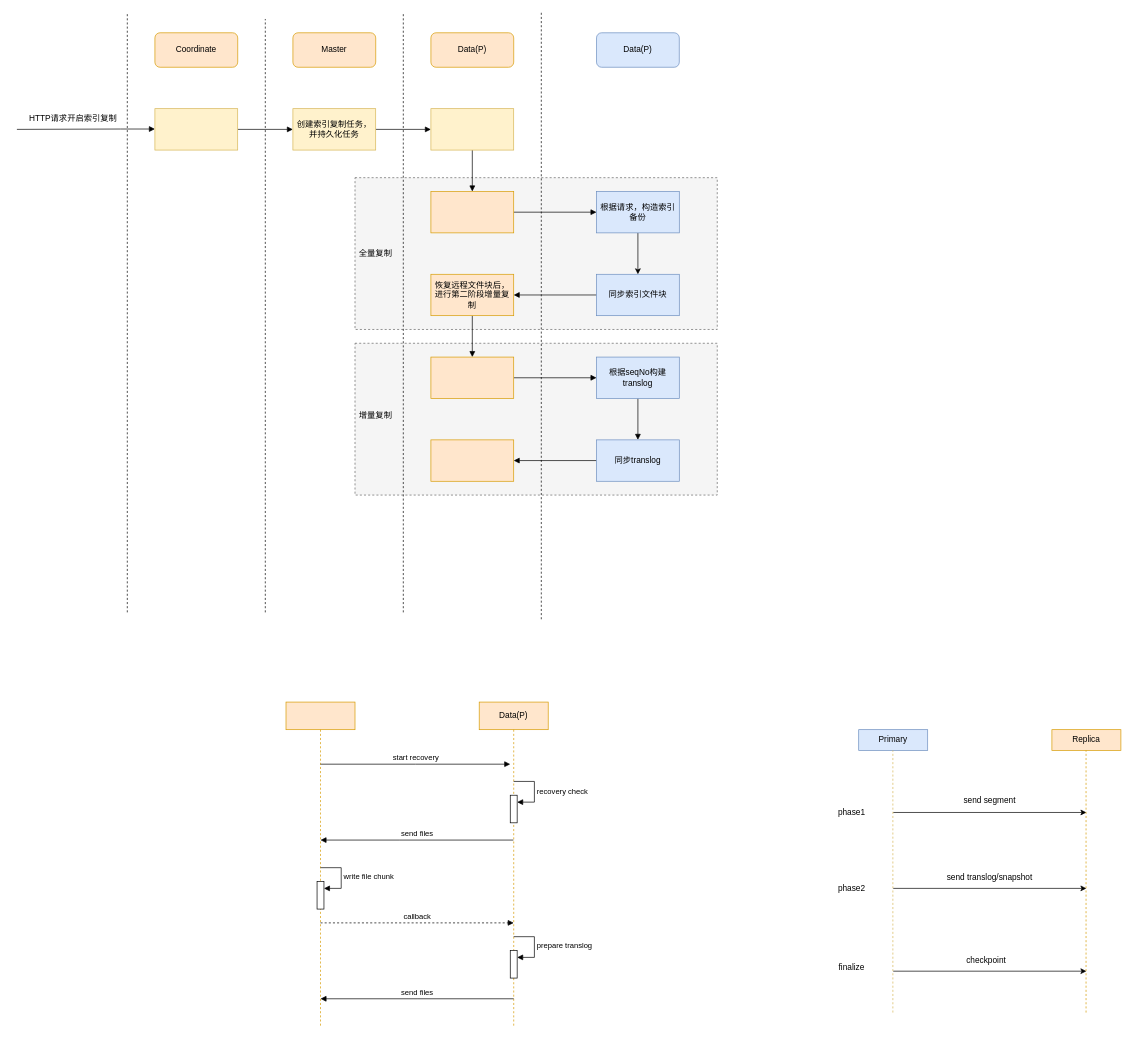
Image size: 1133x1038. Some labels were removed from this diagram. Each missing label, with the centre of its shape:
"Data(R)" goes at point 320,863.
"translog重放" goes at point 472,460.
"初始化配置，发送快照请求" goes at point 472,212.
"校验参数，构造复制对象转发到master" goes at point 196,129.
"根据索引元数据，初始化索引分片复制任务" goes at point 472,377.
"选择合适节点，启动索引复制任务" goes at point 472,129.
